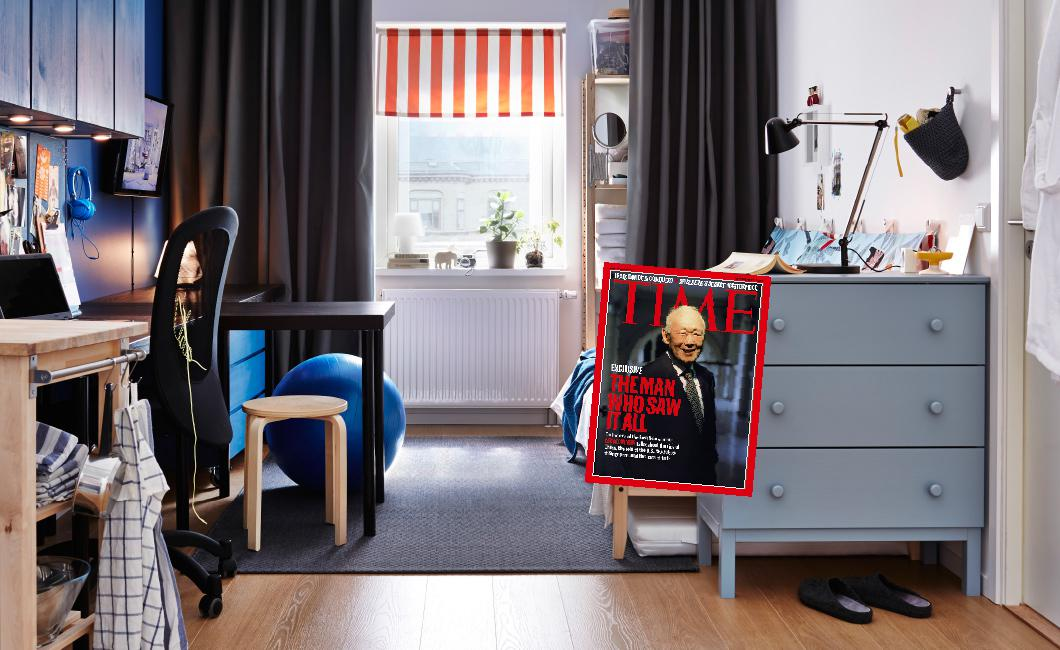times: (580, 260, 774, 494)
